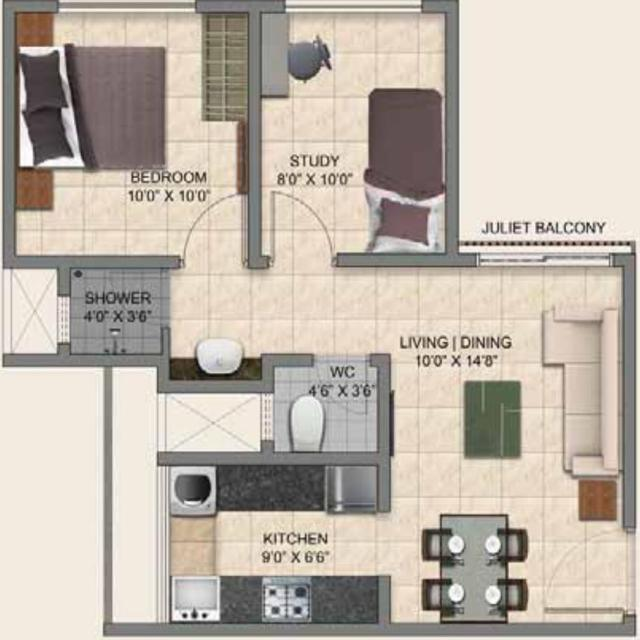Balcony-Sitout: (459, 3, 640, 252)
Bedroom: (2, 0, 260, 267)
Dining: (422, 515, 526, 623)
Enterance-Foyer: (543, 522, 633, 623)
Kitchen: (156, 452, 389, 636)
Living: (379, 254, 636, 481)
Toilet: (53, 257, 169, 365), (275, 369, 380, 451)
